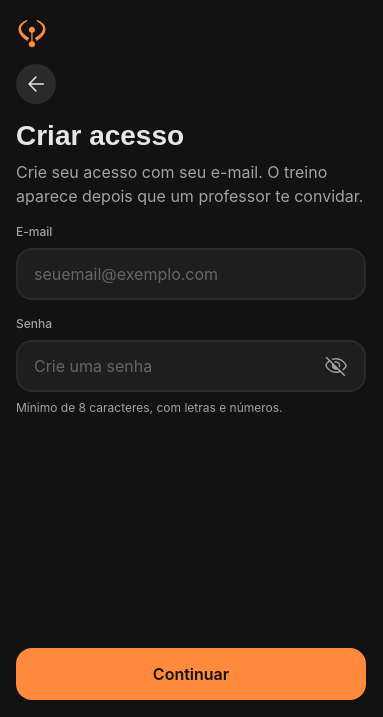
Criar acesso (regras 47, 78 e 89) › limite de envio de e-mails: toast da regra 130
Step 1. Type "ana@exemplo.com" into the field labelled "E-mail" → [191, 274], box [34,250,348,298]
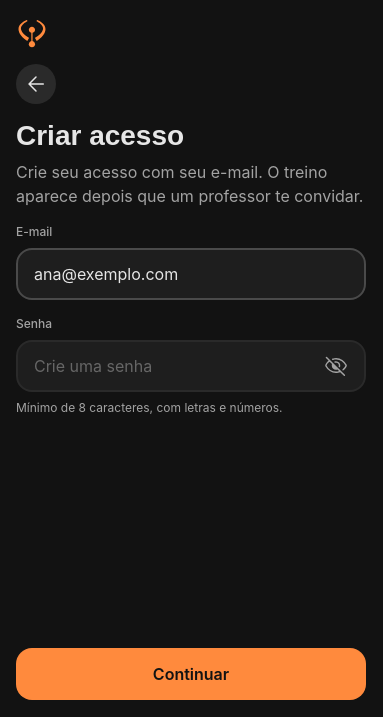
Step 2. Type "abc12345" into the password field labelled "Senha" → [169, 366], box [34,342,304,390]
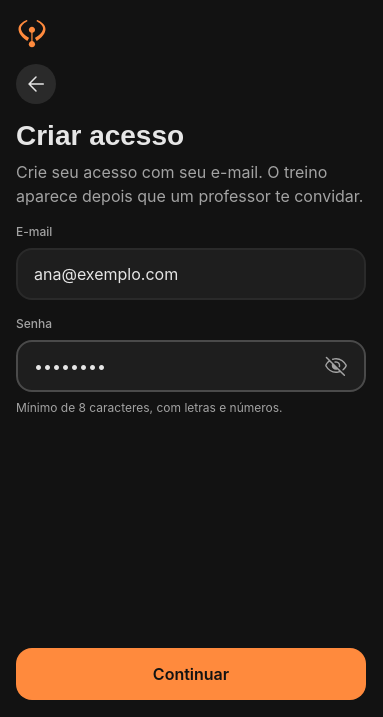
Step 3. Click the button "Continuar" → [191, 674], box [16,648,366,700]
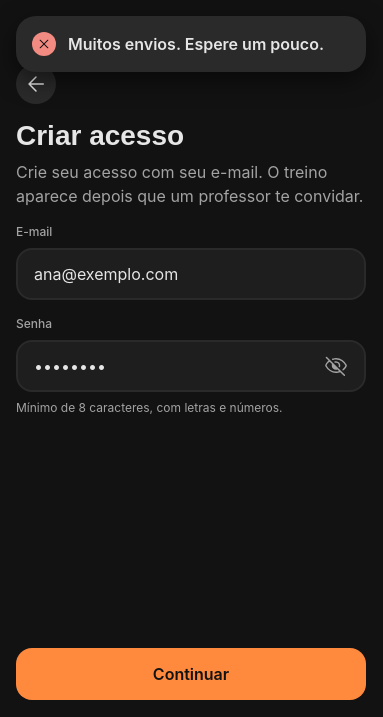
Expected: the text "Muitos envios. Espere um pouco." is shown, [68,32,350,56]
